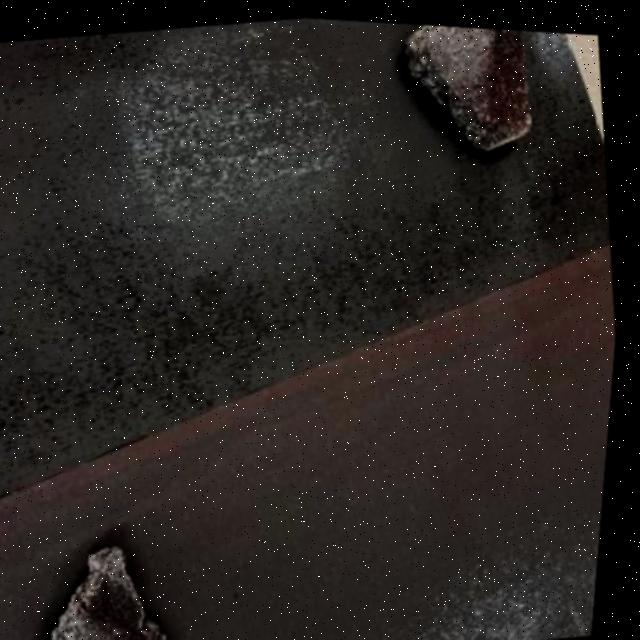Road Debris: (462, 22, 547, 155), (89, 558, 197, 640)
